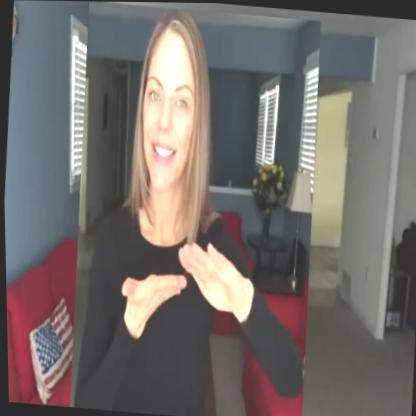NiceToMeetYou: (61, 1, 328, 416)
